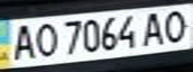0: (81, 16, 103, 53)
4: (115, 11, 142, 50)
6: (100, 14, 121, 52)
7: (60, 17, 81, 55)
A: (6, 21, 39, 61), (139, 9, 172, 47)
O: (157, 7, 193, 44), (30, 20, 60, 58)
